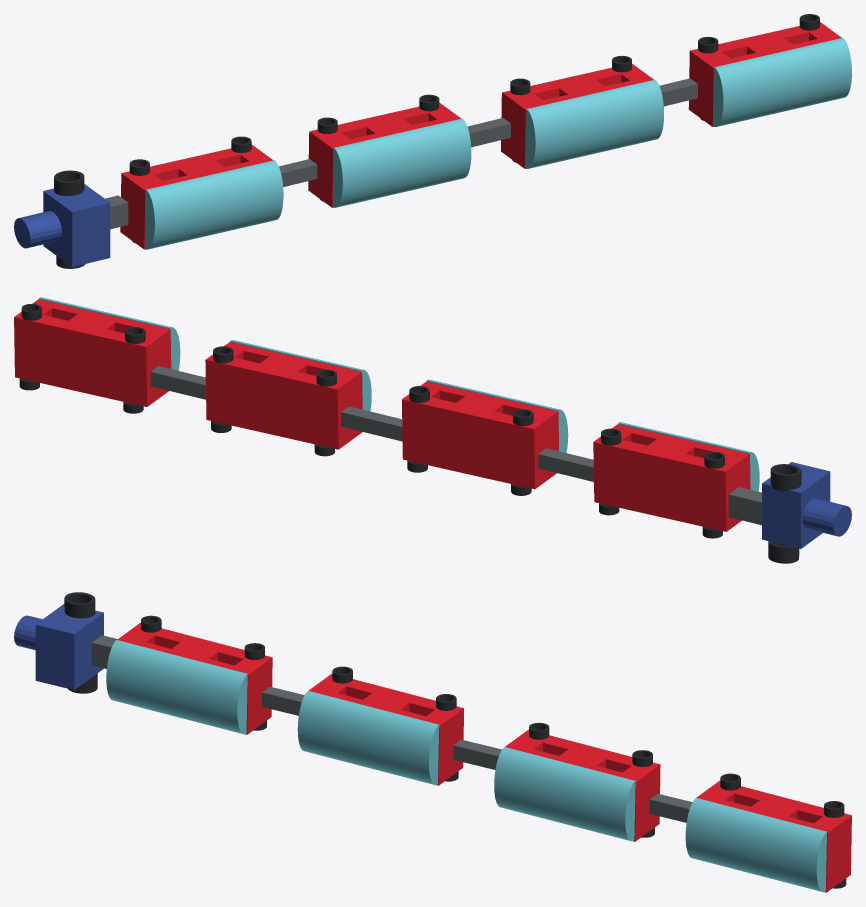
Rendered from tinker.obj.
3 renders of one model, top to bottom at view 1: azimuth 30°, elevation 25°; view 2: azimuth 150°, elevation 25°; view 3: azimuth 330°, elevation 25°, orthographic.
Visible parts, largest first — view 1: group_0_7720667, group_0_15277357, group_0_3888547, group_0_2829873, group_0_6383466; view 2: group_0_15277357, group_0_2829873, group_0_3888547, group_0_6383466, group_0_7720667; view 3: group_0_7720667, group_0_15277357, group_0_3888547, group_0_2829873, group_0_6383466.
Part boxes in pixels (<box>): group_0_7720667: <box>144,38,851,249</box>; group_0_15277357: <box>120,22,841,249</box>; group_0_3888547: <box>14,184,110,266</box>; group_0_2829873: <box>54,14,819,268</box>; group_0_6383466: <box>105,78,697,229</box>; group_0_15277357: <box>14,299,750,531</box>; group_0_2829873: <box>19,303,801,563</box>; group_0_3888547: <box>762,462,851,548</box>; group_0_6383466: <box>150,366,761,525</box>; group_0_7720667: <box>39,297,759,491</box>; group_0_7720667: <box>106,640,826,892</box>; group_0_15277357: <box>117,622,851,892</box>; group_0_3888547: <box>14,604,103,690</box>; group_0_2829873: <box>64,592,846,888</box>; group_0_6383466: <box>91,635,692,822</box>.
Size of the model in its own units: 416 by 49 by 33.
